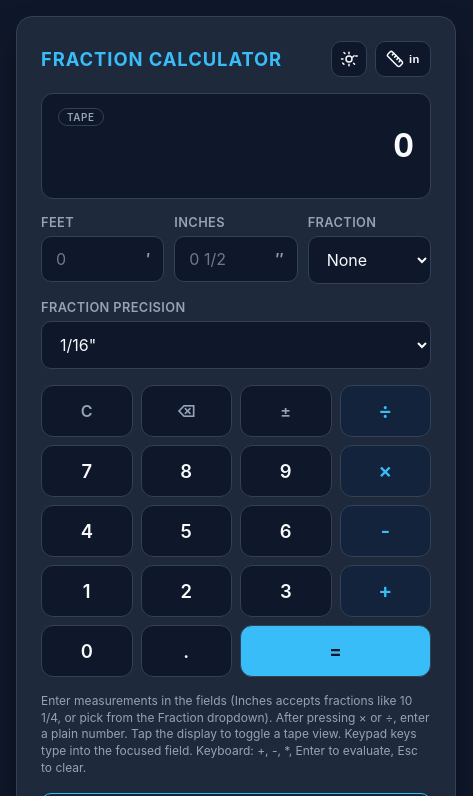
imperial feet/inches input › multiplies a metric measurement by a plain number
Step 1. Click the button with aria-label "Switch to Metric" → {"x": 403, "y": 59}, box [375,41,431,77]
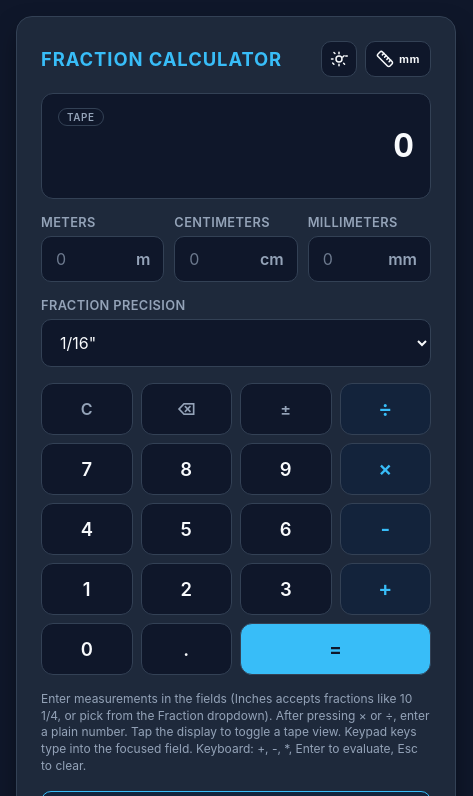
Step 2. Type "2" into the field labelled "Meters" → {"x": 103, "y": 259}, box [41,236,164,282]
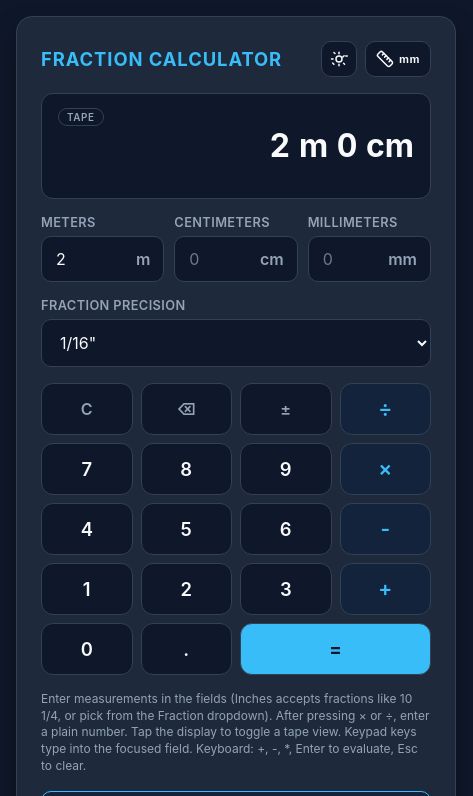
Step 3. Click the button "×" → {"x": 385, "y": 469}, box [340,443,431,495]
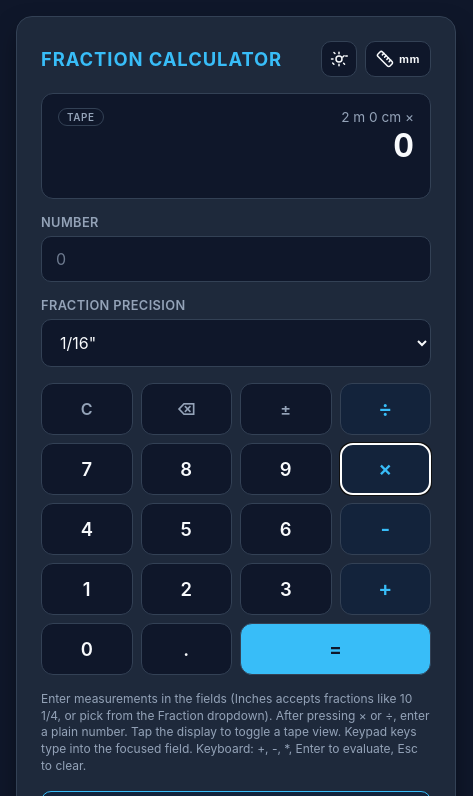
Step 4. Type "3" into the field labelled "Number" → {"x": 236, "y": 259}, box [41,236,431,282]
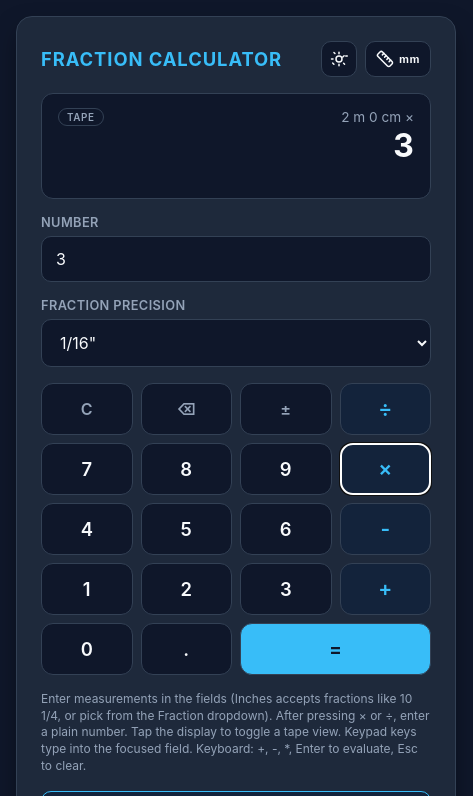
Step 5. Click the button "=" → {"x": 336, "y": 649}, box [240,623,431,675]
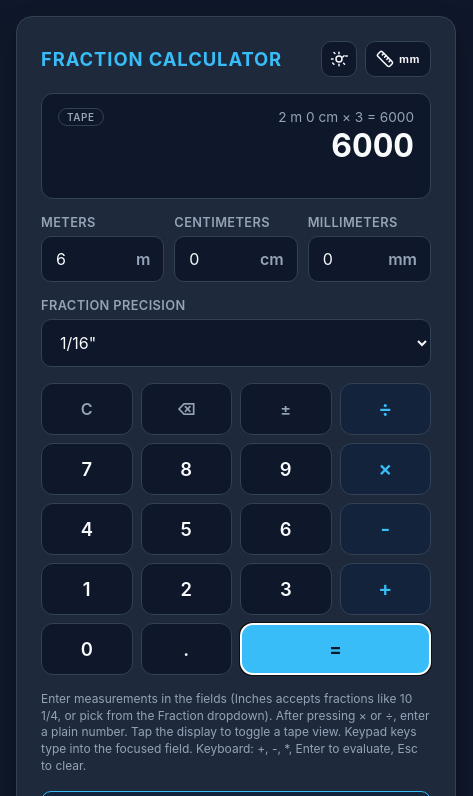
Now the text with class "display-expr" reads "2 m 0 cm × 3 = 6000", box [278,109,414,125]
